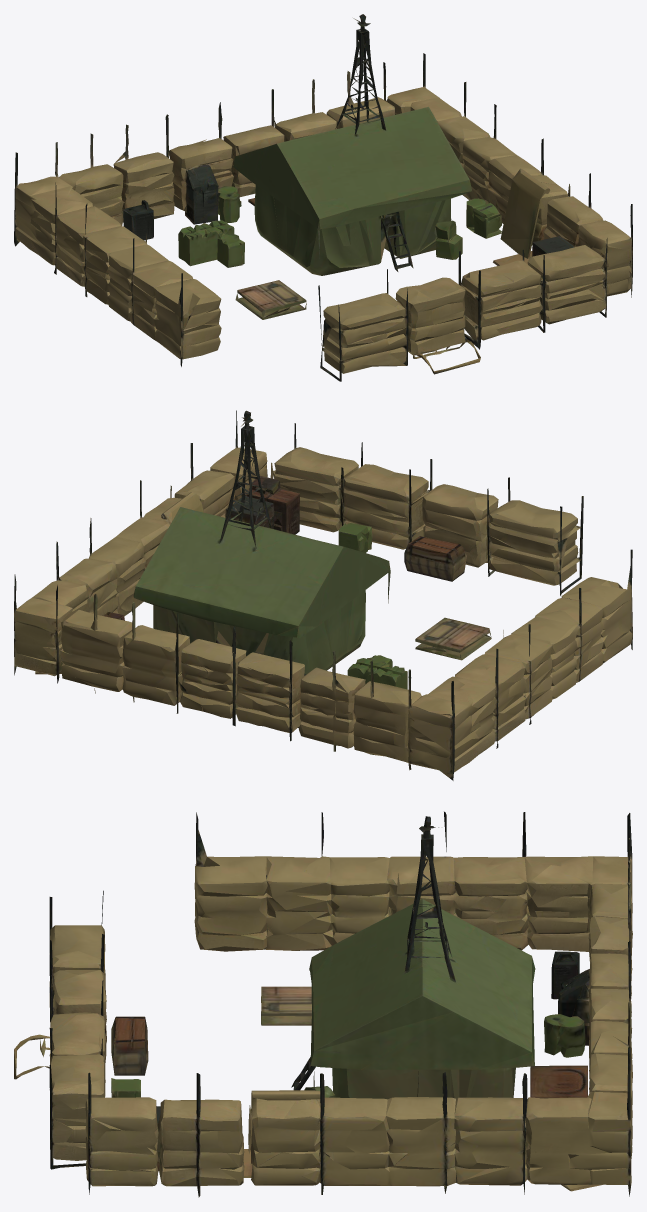
File: camp.glb
3 views of the same model, one above another, from view 1: azimuth 30°, elevation 25°; view 2: azimuth 150°, elevation 25°; view 3: azimuth 270°, elevation 25° (orthographic). The views are drawn at different scales.
Visible parts, largest first — view 1: wall; view 2: wall; view 3: wall.
Part boxes in pixels (<box>): wall: <box>14,14,632,381</box>; wall: <box>14,410,632,780</box>; wall: <box>14,811,632,1197</box>.
Bounding box in the file's own units: 7.5 × 3.91 × 7.48.
1 material, 1 textured.
